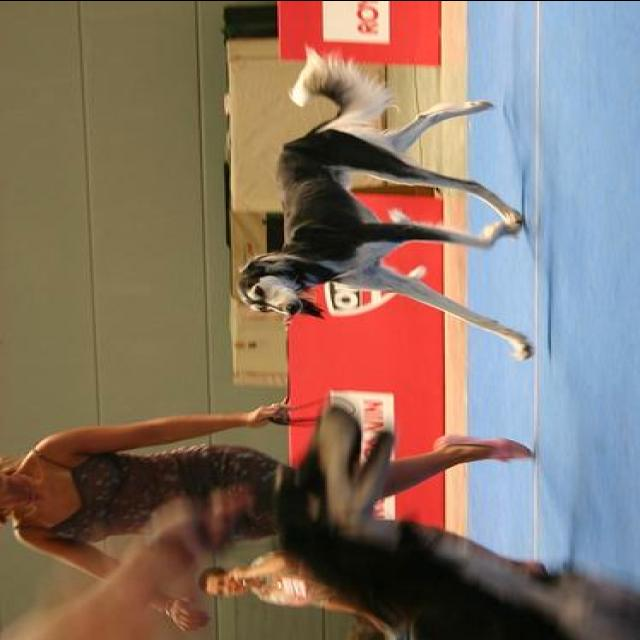saluki: (233, 50, 534, 358), (266, 403, 638, 640)
